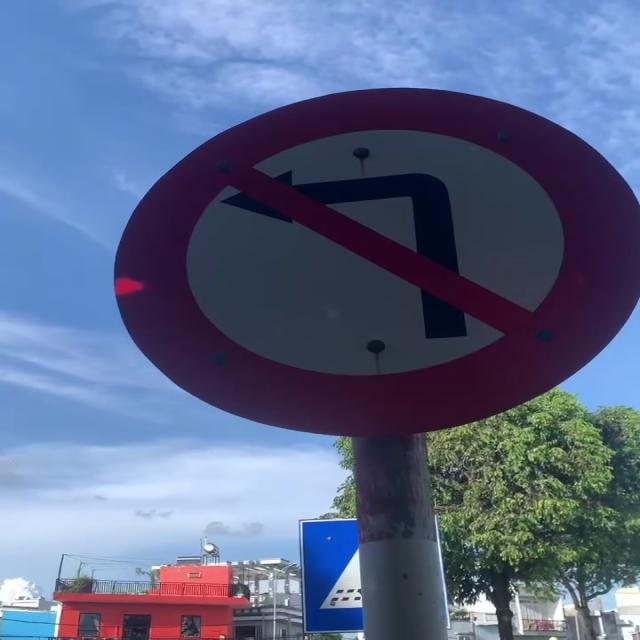Cam_Re_Trai: (119, 84, 637, 448)
